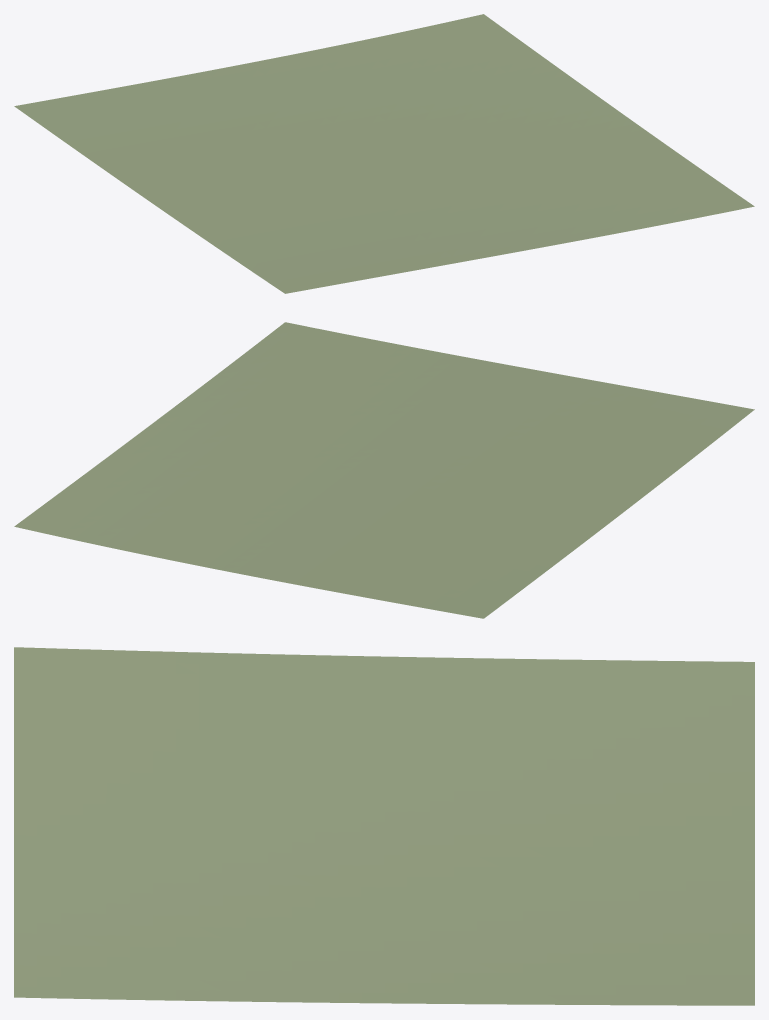
The model's file is desert-2-23.glb.
3 views of the same model, one above another, from view 1: azimuth 30°, elevation 25°; view 2: azimuth 150°, elevation 25°; view 3: azimuth 270°, elevation 25° (orthographic). The views are drawn at different scales.
Parts seen in each view (by area): view 1: desert-2-23; view 2: desert-2-23; view 3: desert-2-23.
Boxes of the visible parts, <box> form: desert-2-23: <box>14,14,754,293</box>; desert-2-23: <box>14,322,754,618</box>; desert-2-23: <box>14,647,754,1005</box>.
Bounding box in the file's own units: 512 × 34.66 × 512.
